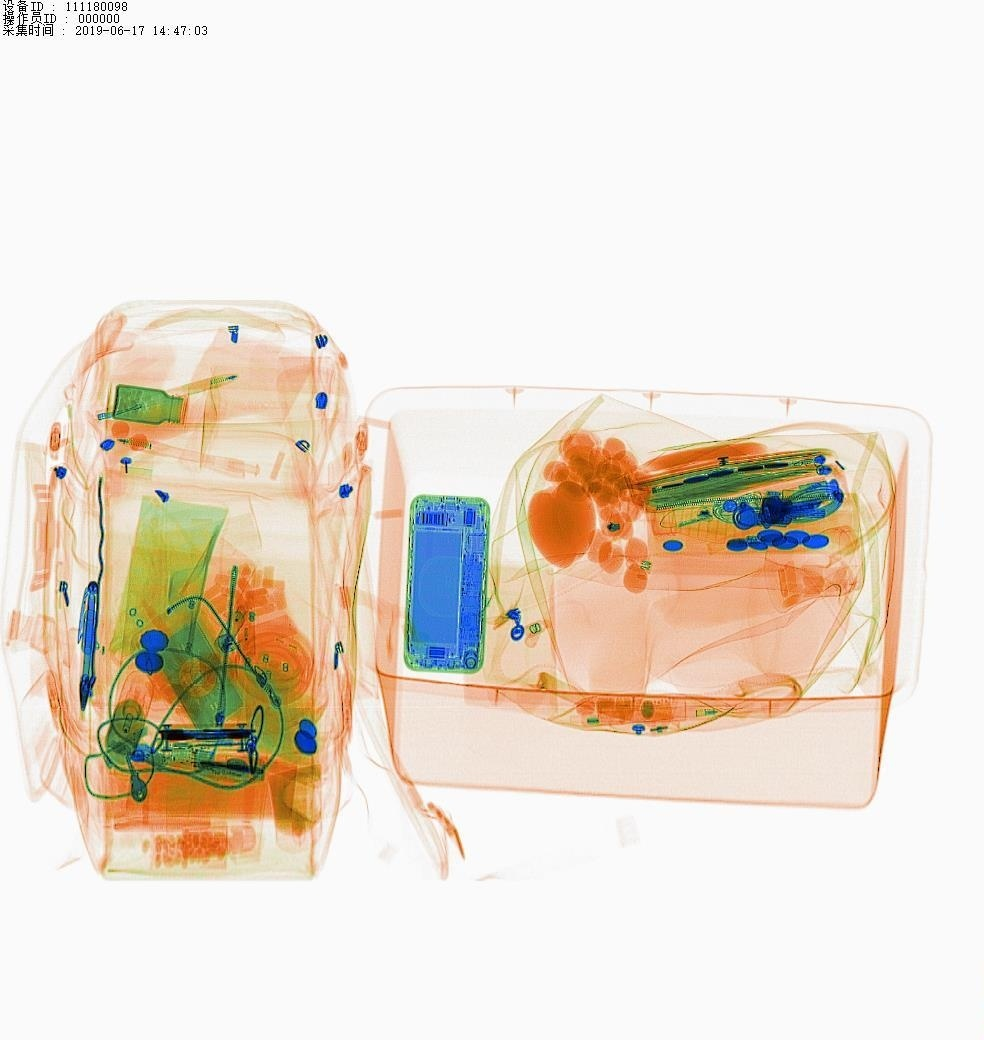NonmetallicFire: (214, 607, 309, 666)
